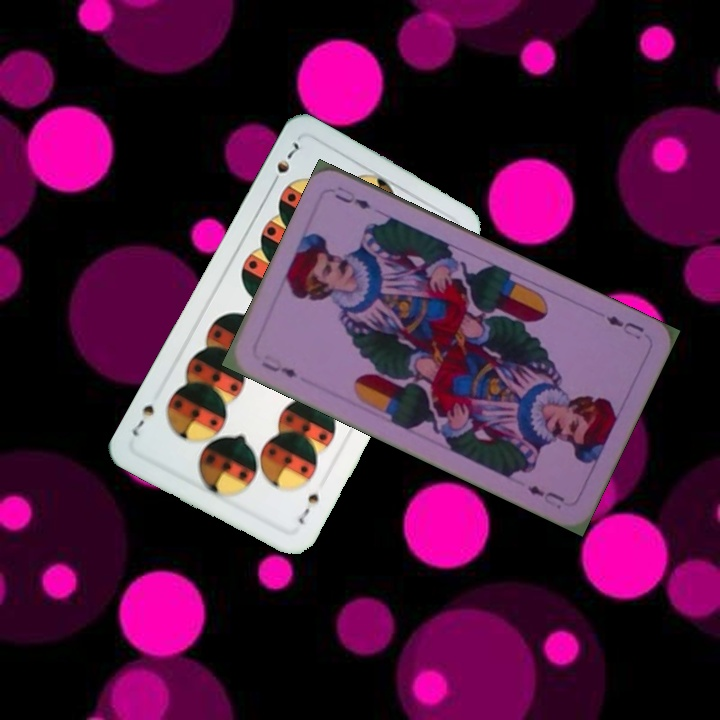EU: (601, 311, 647, 342), (257, 350, 300, 381)
S7: (266, 138, 302, 191), (294, 488, 322, 527)
